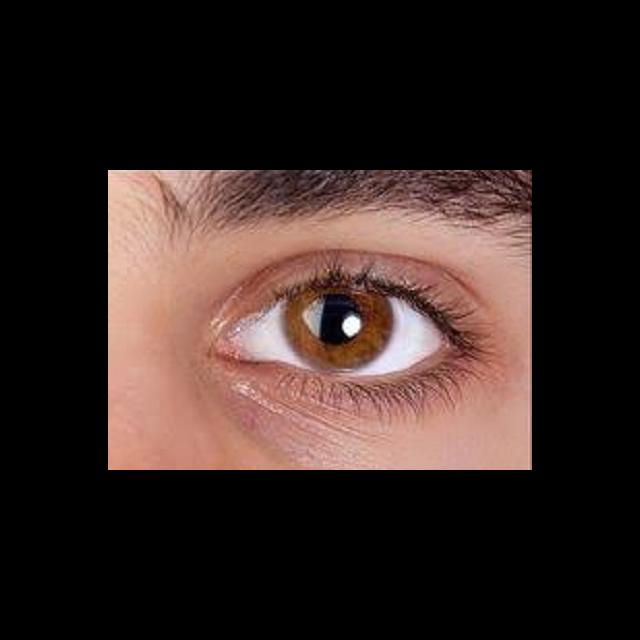eye: (240, 281, 445, 377)
iris: (283, 285, 395, 373)
